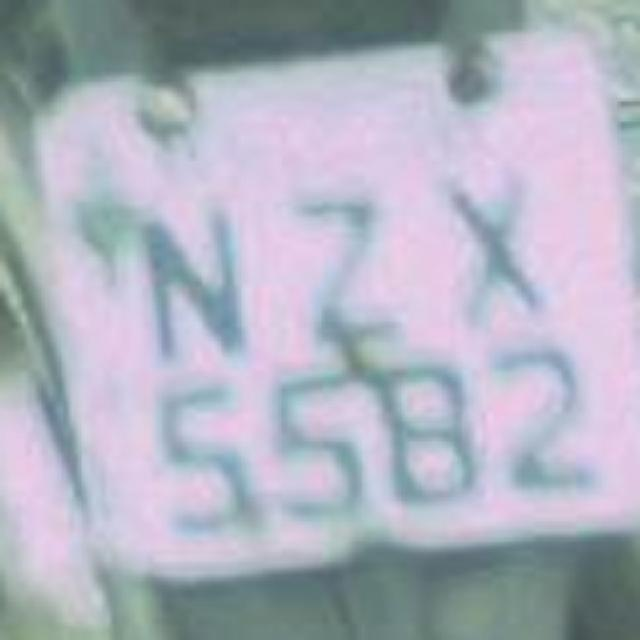2: (451, 320, 624, 508)
5: (216, 348, 416, 524), (128, 368, 288, 548)
8: (348, 324, 500, 524)
N: (116, 184, 269, 384)
X: (415, 132, 560, 332)
Z: (264, 160, 411, 355)
